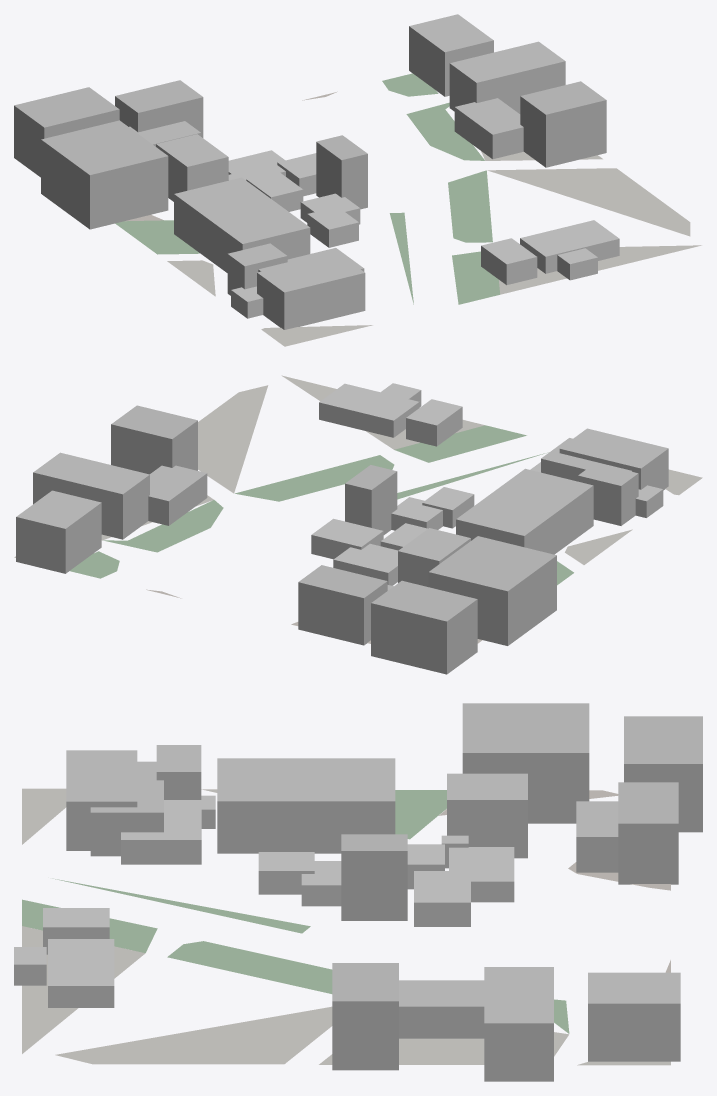
The model's file is 103_90_mid.glb.
The picture shows the model from 3 angles, top to bottom: view 1: azimuth 30°, elevation 25°; view 2: azimuth 150°, elevation 25°; view 3: azimuth 270°, elevation 25°; orthographic projection. The views are drawn at different scales.
Bounding box in the file's own units: 559 × 61.07 × 531.
